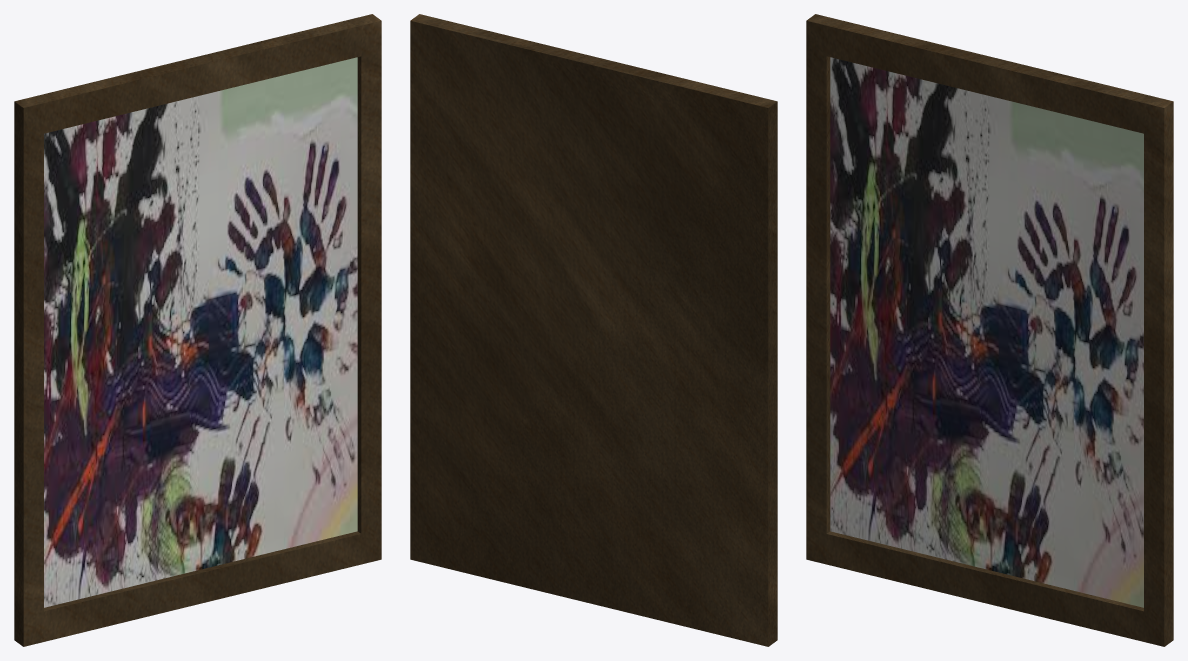
File: cadreTall.fbx
The picture shows the model from 3 angles, left to right: view 1: azimuth 30°, elevation 25°; view 2: azimuth 150°, elevation 25°; view 3: azimuth 330°, elevation 25°; orthographic projection.
Visible parts, largest first — view 1: Cadre_Tall; view 2: Cadre_Tall; view 3: Cadre_Tall.
Boxes of the visible parts, x1,y1,x2,y2 form: Cadre_Tall: (14, 14, 381, 646); Cadre_Tall: (410, 14, 777, 646); Cadre_Tall: (806, 14, 1173, 646).
Size of the model in its own units: 176 by 253 by 7.82.
